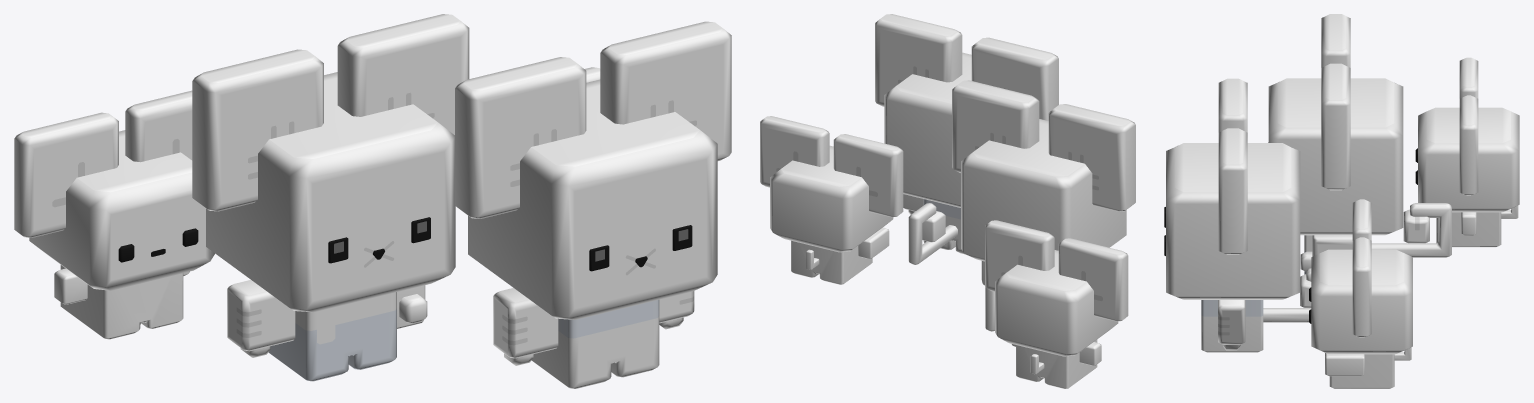
3 renders of one model, left to right at view 1: azimuth 30°, elevation 25°; view 2: azimuth 150°, elevation 25°; view 3: azimuth 270°, elevation 25°, orthographic. The views are drawn at different scales.
Parts seen in each view (by area): view 1: 0925_maushold; view 2: 0925_maushold; view 3: 0925_maushold.
Boxes of the visible parts, x1,y1,x2,y2 form: 0925_maushold: (14,14,731,388); 0925_maushold: (760,14,1135,388); 0925_maushold: (1164,14,1519,388).
Bounding box in the file's own units: 2.95 × 1.4 × 2.08.
Materials: 1 (1 with a texture image).
